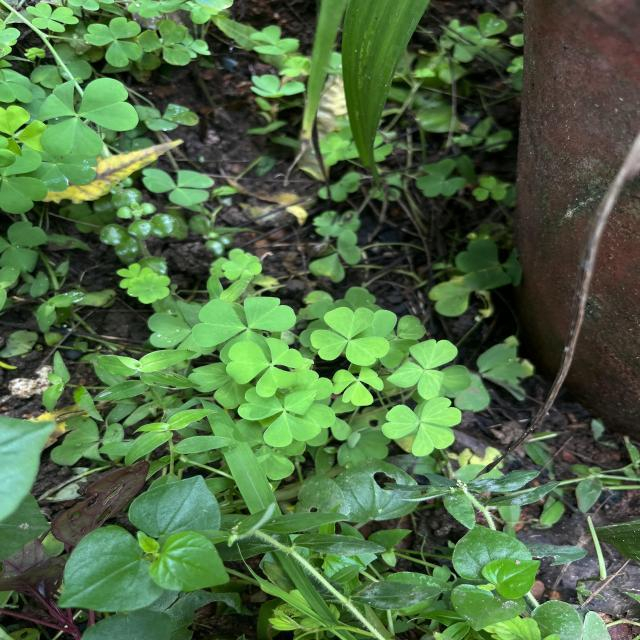Oxalis corniculata: (37, 77, 139, 162), (191, 296, 297, 346), (237, 387, 322, 448), (380, 397, 462, 457), (310, 306, 390, 367), (226, 337, 304, 398), (386, 338, 458, 401), (83, 16, 144, 68), (142, 168, 216, 208), (332, 365, 384, 407), (26, 2, 80, 33), (129, 273, 172, 305)
